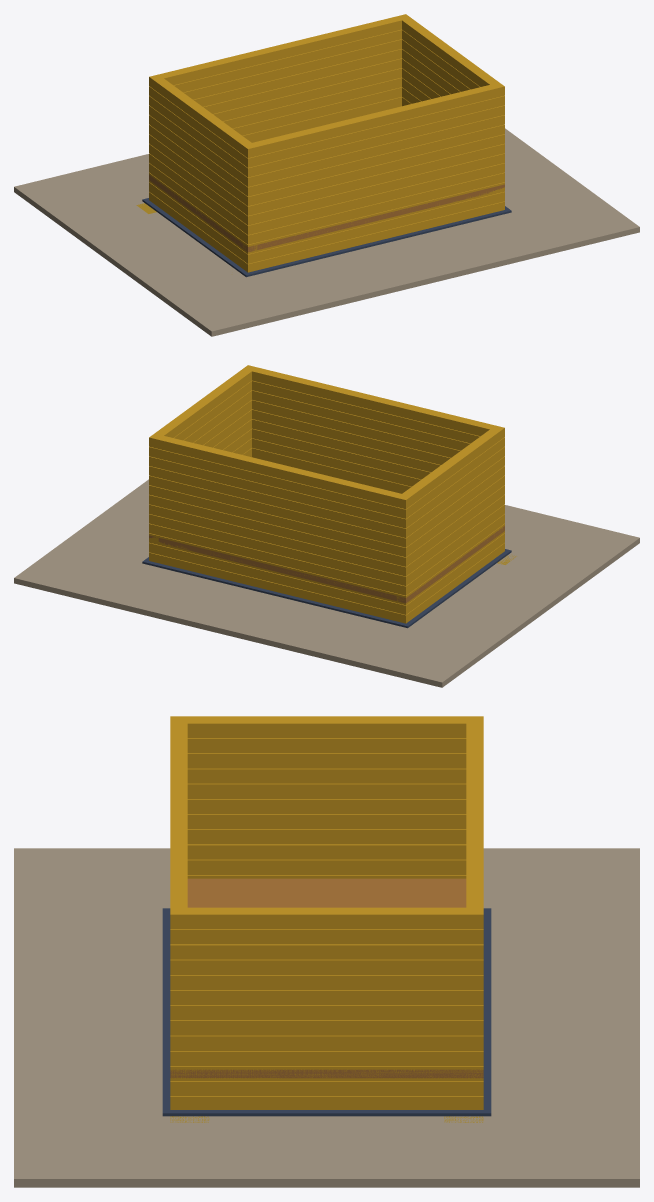
File: stage_04_walls.glb
3 views of the same model, one above another, from view 1: azimuth 30°, elevation 25°; view 2: azimuth 150°, elevation 25°; view 3: azimuth 270°, elevation 25° (orthographic). The views are drawn at different scales.
Parts seen in each view (by area): view 1: world; view 2: world; view 3: world.
Boxes of the visible parts, x1,y1,x2,y2 form: world: (14,14,639,336); world: (14,365,639,687); world: (14,716,639,1187).
Size of the model in its own units: 10 by 3.6 by 8.
